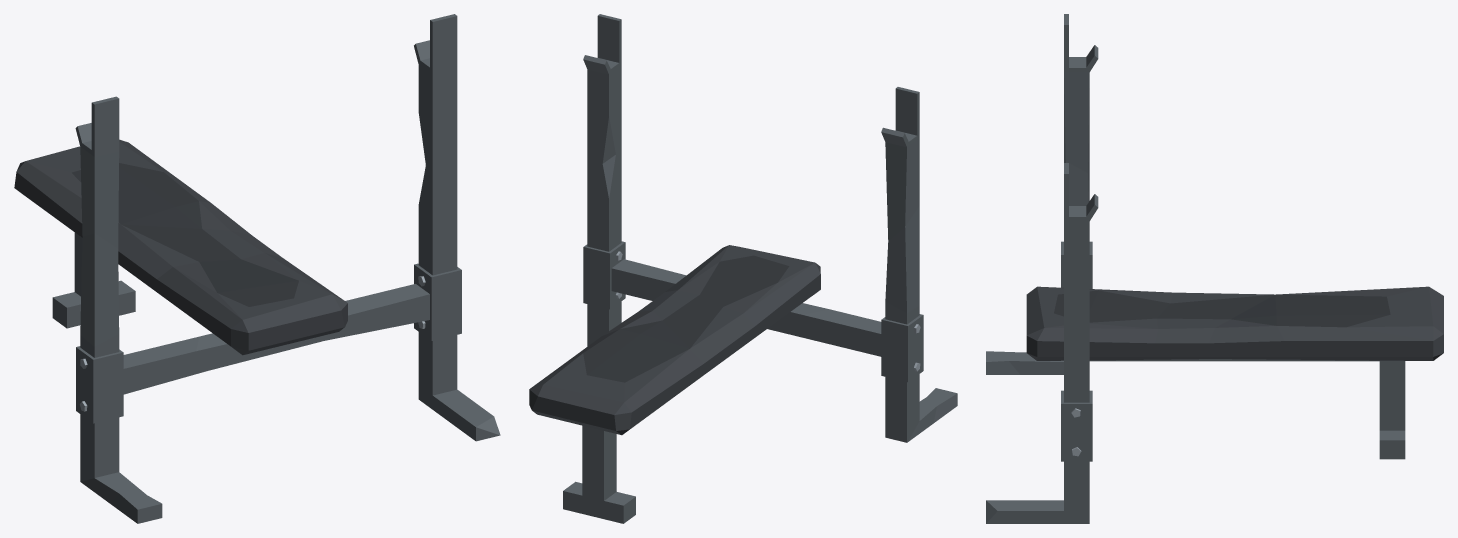
The model's file is SM_Prop_Bench_Press_01.glb.
3 renders of one model, left to right at view 1: azimuth 30°, elevation 25°; view 2: azimuth 150°, elevation 25°; view 3: azimuth 270°, elevation 25°, orthographic. The views are drawn at different scales.
Visible parts, largest first — view 1: SM_Prop_Bench_Press_01; view 2: SM_Prop_Bench_Press_01; view 3: SM_Prop_Bench_Press_01.
Part boxes in pixels (bbox=[...]): SM_Prop_Bench_Press_01: bbox=[14, 14, 500, 523]; SM_Prop_Bench_Press_01: bbox=[529, 14, 957, 523]; SM_Prop_Bench_Press_01: bbox=[986, 14, 1443, 523].
Size of the model in its own units: 1.1 by 1.1 by 1.3.
1 material, 1 textured.
